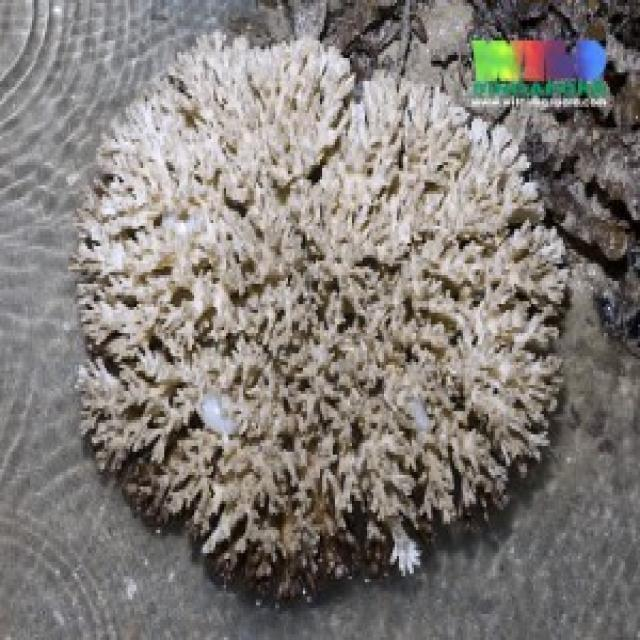Bleached Coral: (58, 0, 568, 608)
